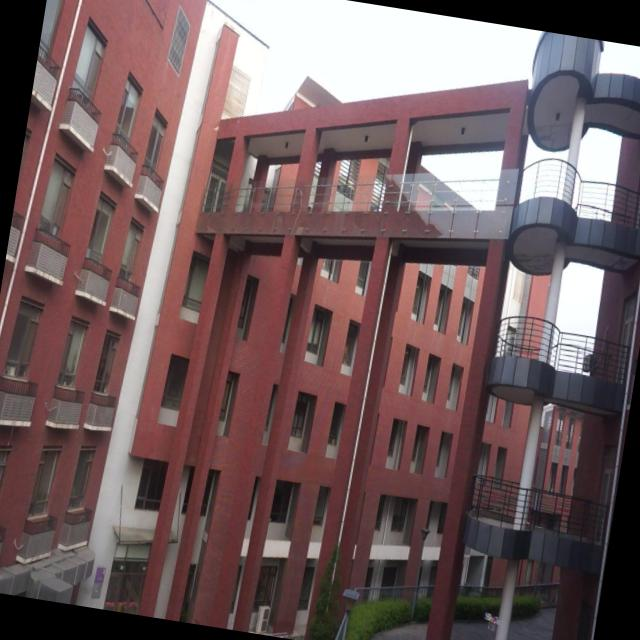drone: (481, 610, 502, 632)
